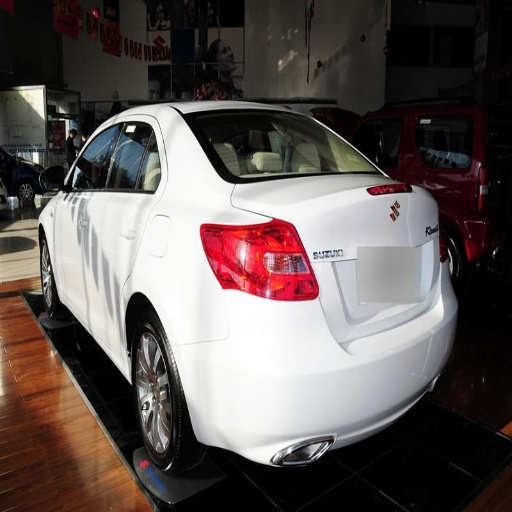back_bumper: (168, 288, 454, 466)
back_glass: (182, 115, 377, 181)
back_left_door: (87, 116, 160, 316)
